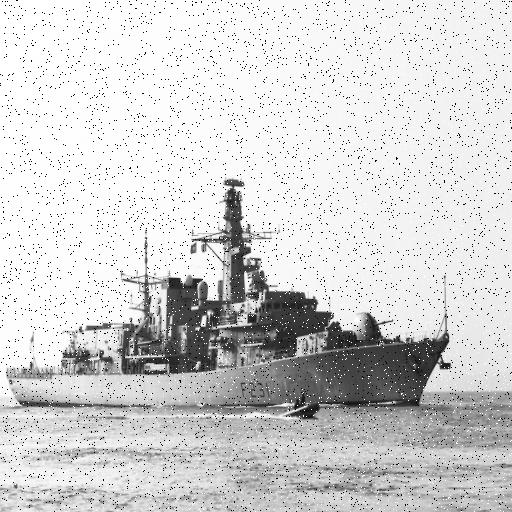Fragata: (3, 180, 460, 420)
